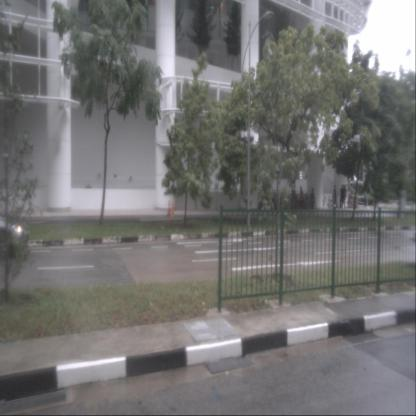human-pedestrian-adult: (339, 184, 345, 209), (332, 184, 338, 208), (310, 187, 315, 215), (300, 186, 304, 212), (342, 185, 346, 209)
movable_object-trafficcone: (167, 201, 171, 216), (171, 202, 174, 216)
vehicle-bicycle: (321, 195, 334, 210), (347, 193, 358, 209)
vehicle-car: (0, 213, 30, 259)
